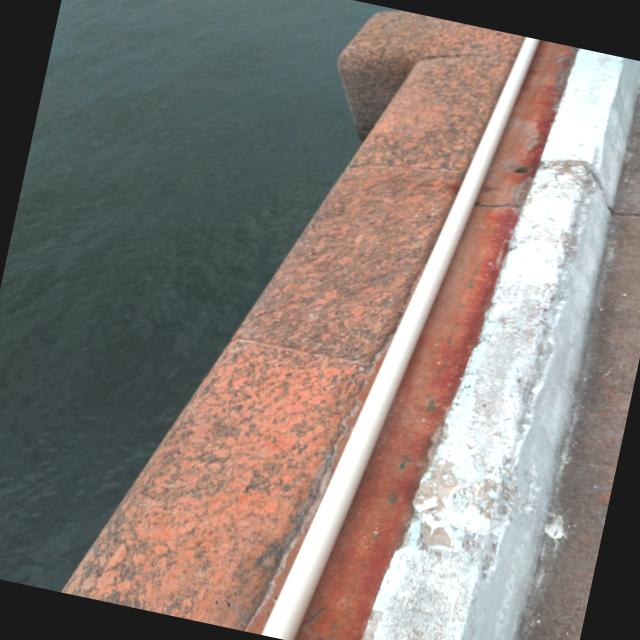gas: (258, 36, 536, 640)
